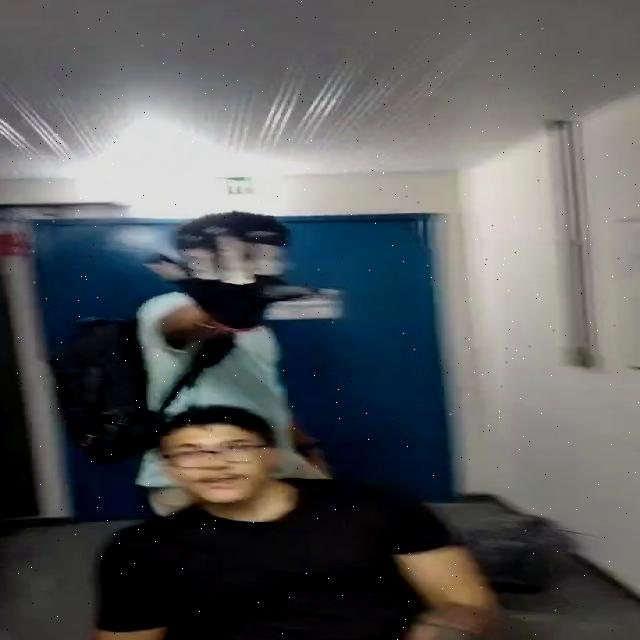Gloves: (140, 230, 321, 330)
